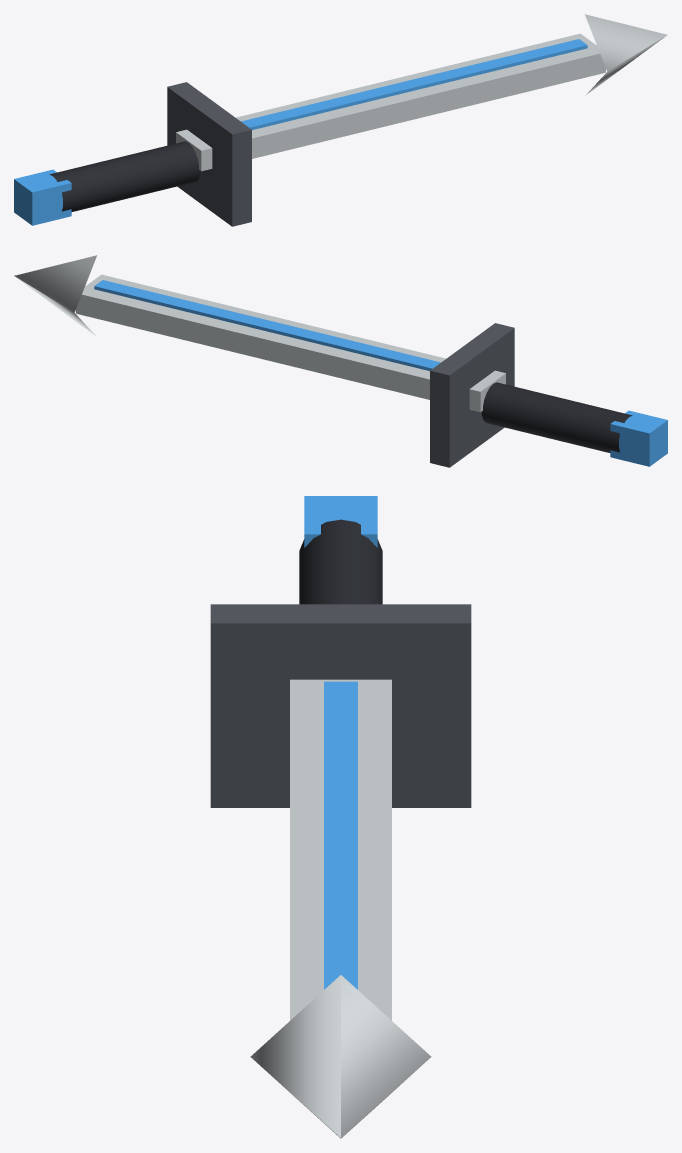
File: wraith-blade.glb
The picture shows the model from 3 angles, top to bottom: view 1: azimuth 30°, elevation 25°; view 2: azimuth 150°, elevation 25°; view 3: azimuth 270°, elevation 25°; orthographic projection. The views are drawn at different scales.
Parts seen in each view (by area): view 1: wraith-blade free asset preview part 1, wraith-blade free asset preview part 5, wraith-blade free asset preview part 4, wraith-blade free asset preview part 2, wraith-blade free asset preview part 3, wraith-blade free asset preview part 6; view 2: wraith-blade free asset preview part 1, wraith-blade free asset preview part 5, wraith-blade free asset preview part 4, wraith-blade free asset preview part 2, wraith-blade free asset preview part 3, wraith-blade free asset preview part 6; view 3: wraith-blade free asset preview part 5, wraith-blade free asset preview part 1, wraith-blade free asset preview part 3, wraith-blade free asset preview part 2, wraith-blade free asset preview part 4, wraith-blade free asset preview part 6.
Boxes of the visible parts, left/top/right/bottom form: wraith-blade free asset preview part 1: left=176, top=33, right=605, bottom=171; wraith-blade free asset preview part 5: left=167, top=82, right=251, bottom=226; wraith-blade free asset preview part 4: left=49, top=141, right=200, bottom=211; wraith-blade free asset preview part 2: left=241, top=39, right=587, bottom=129; wraith-blade free asset preview part 3: left=585, top=14, right=667, bottom=95; wraith-blade free asset preview part 6: left=14, top=169, right=71, bottom=225; wraith-blade free asset preview part 1: left=76, top=274, right=505, bottom=412; wraith-blade free asset preview part 5: left=430, top=323, right=514, bottom=467; wraith-blade free asset preview part 4: left=481, top=382, right=632, bottom=452; wraith-blade free asset preview part 2: left=94, top=280, right=440, bottom=370; wraith-blade free asset preview part 3: left=14, top=255, right=96, bottom=336; wraith-blade free asset preview part 6: left=610, top=410, right=667, bottom=466; wraith-blade free asset preview part 5: left=210, top=604, right=471, bottom=807; wraith-blade free asset preview part 1: left=290, top=679, right=391, bottom=1020; wraith-blade free asset preview part 3: left=250, top=975, right=431, bottom=1138; wraith-blade free asset preview part 2: left=324, top=681, right=357, bottom=989; wraith-blade free asset preview part 4: left=299, top=519, right=382, bottom=604; wraith-blade free asset preview part 6: left=304, top=496, right=377, bottom=547.
Size of the model in its own units: 2.63 by 0.37 by 0.46.
